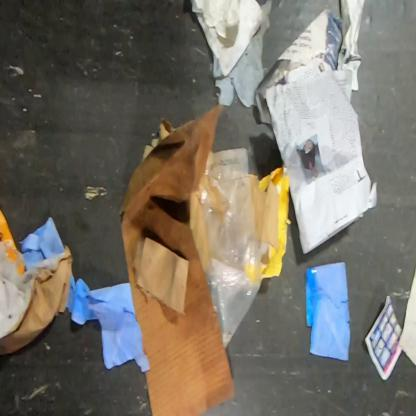cardboard: (120, 106, 235, 416), (0, 240, 74, 356), (249, 173, 279, 251), (0, 210, 28, 274)
soft_plastic: (196, 146, 264, 353)
